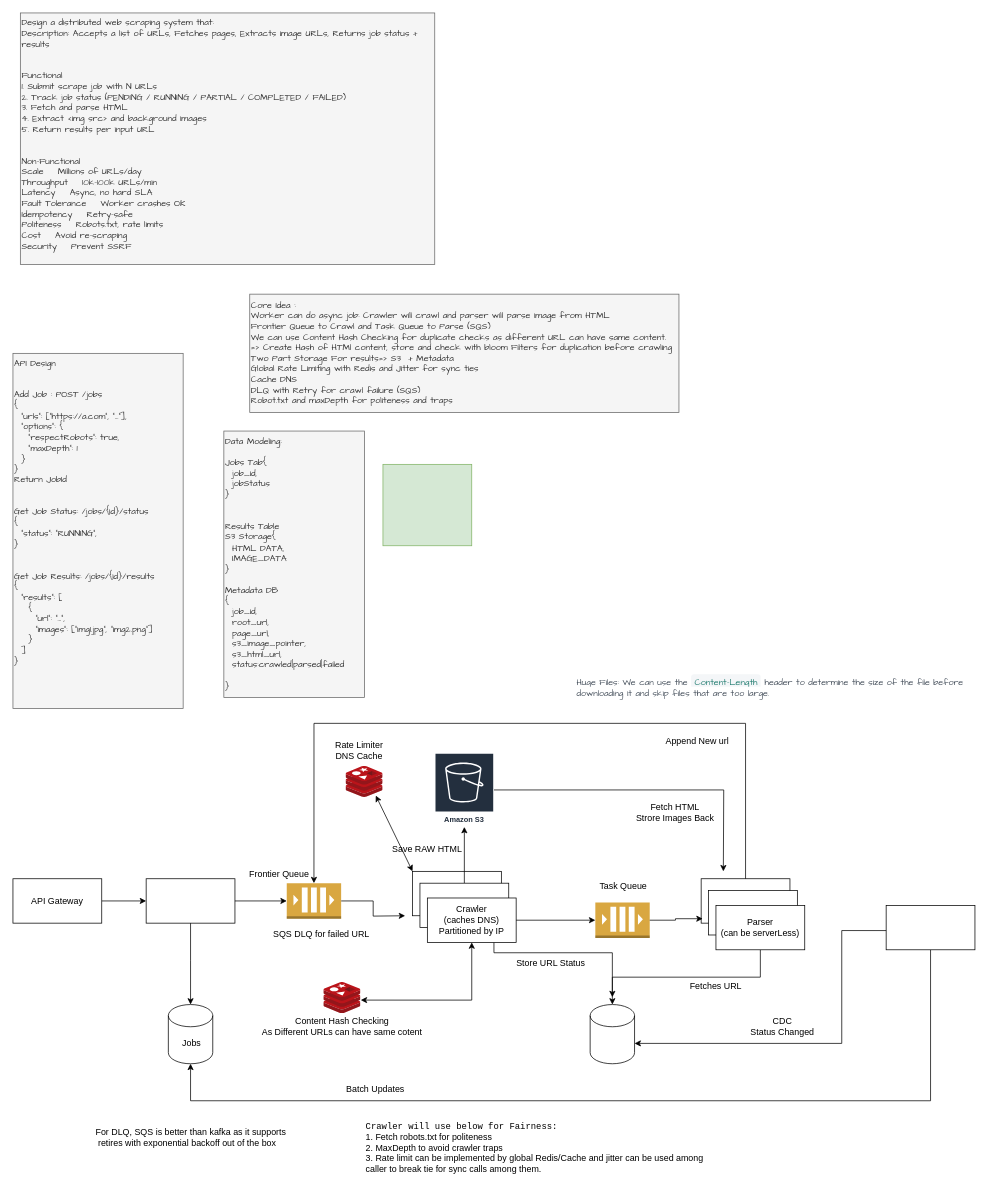
Some shapes in this 1003 by 1188 pixel diagram are drawn without their labels. The centre of each missing label's shape, as x and y in pixels:
"Aggregator" goes at point (930, 927).
"JobService" goes at point (190, 900).
"JobStatus = { total_urls, completed_urls, failed_urls, running_urls }" goes at point (427, 505).
"Metadata DB" goes at point (612, 1034).
